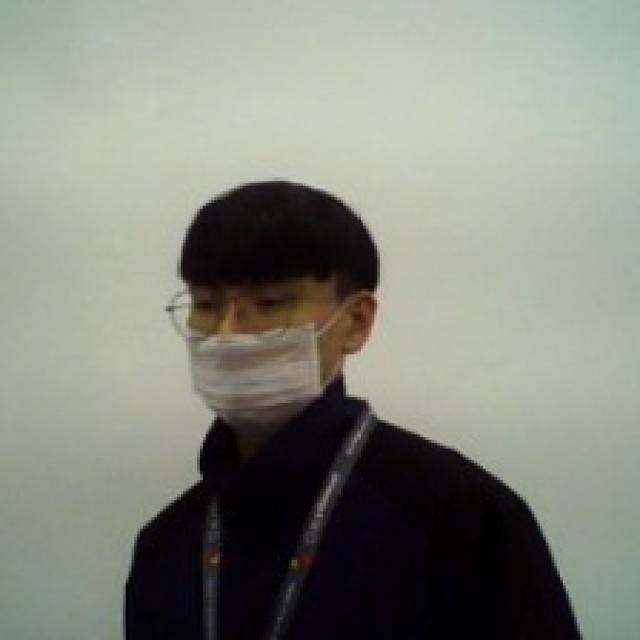mask: (164, 301, 384, 432)
no_gloves: (172, 168, 378, 318)
